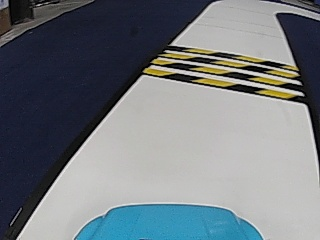bump: (164, 47, 283, 97)
